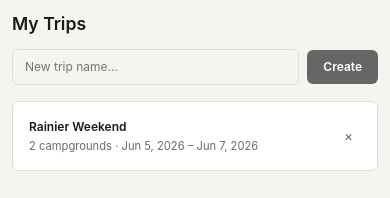
Test: TripsPage destructive delete › first click asks for confirmation instead of deleting
Expected: the text "Rainier Weekend" is shown, 29,119 -> 126,134
Click the button named "Delete Rainier Weekend": (348, 136) 336,114 -> 361,158
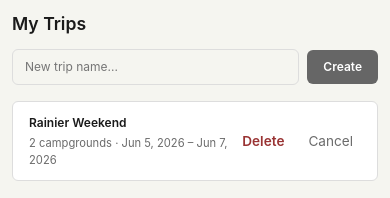
Now the button with aria-label "Confirm delete Rainier Weekend" is shown, box 234,119 -> 292,163
Now the button with aria-label "Cancel delete" is shown, box 300,119 -> 361,163
